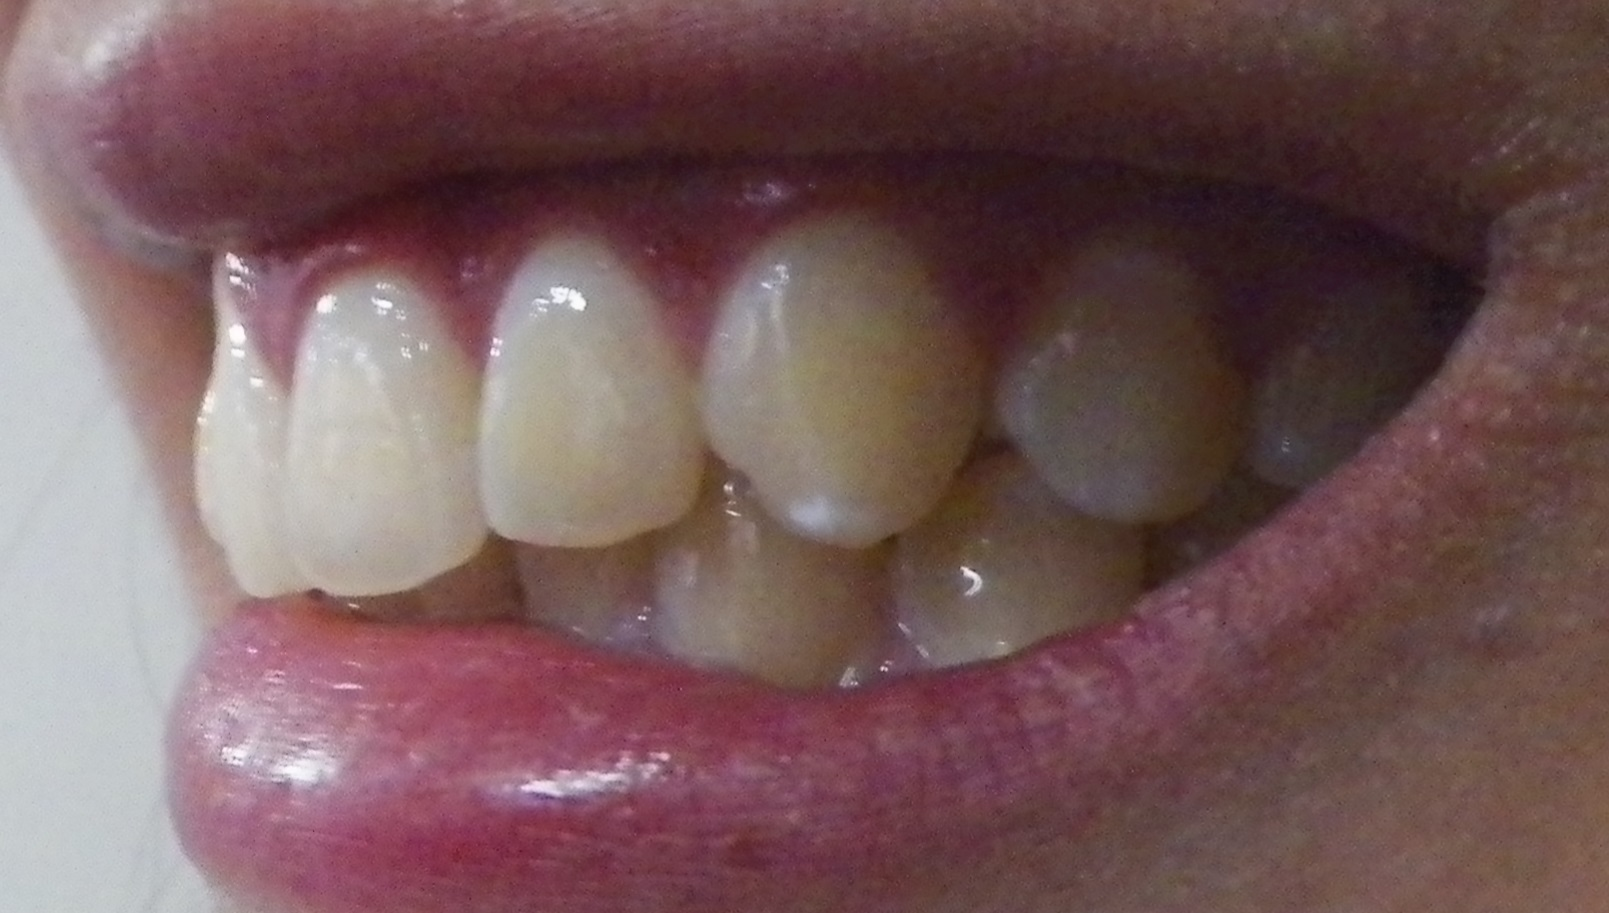boca: (193, 251, 1379, 639)
